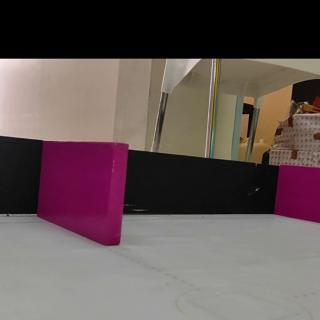xparking: (44, 141, 125, 248), (281, 167, 320, 217)
